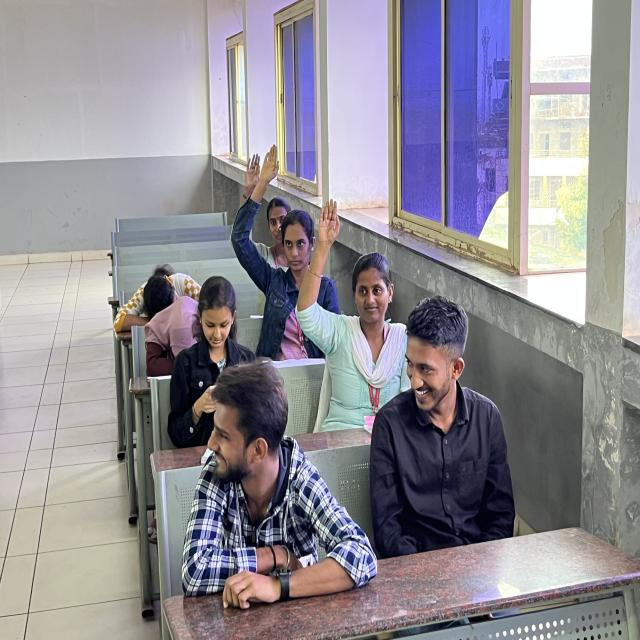Hand Rising: (302, 195, 398, 422), (232, 136, 324, 338)
Sleeping: (110, 259, 218, 329), (144, 294, 210, 386)
Using Phone: (171, 274, 270, 428)
